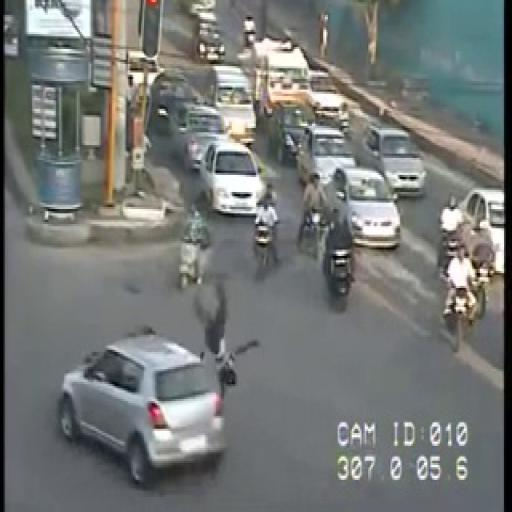Car: (55, 327, 224, 490), (324, 166, 401, 250), (198, 140, 265, 214), (362, 124, 428, 199), (200, 64, 256, 146), (244, 44, 305, 112), (458, 186, 504, 275), (295, 124, 353, 189), (172, 104, 226, 169), (149, 71, 201, 134), (269, 105, 313, 166), (302, 72, 348, 126), (193, 18, 226, 64)
Major Accident: (50, 293, 260, 492)
Motor: (184, 296, 252, 423), (438, 228, 494, 350), (318, 208, 371, 312), (179, 202, 215, 290), (296, 174, 329, 264), (251, 188, 282, 277), (433, 192, 464, 270), (243, 15, 256, 46)
